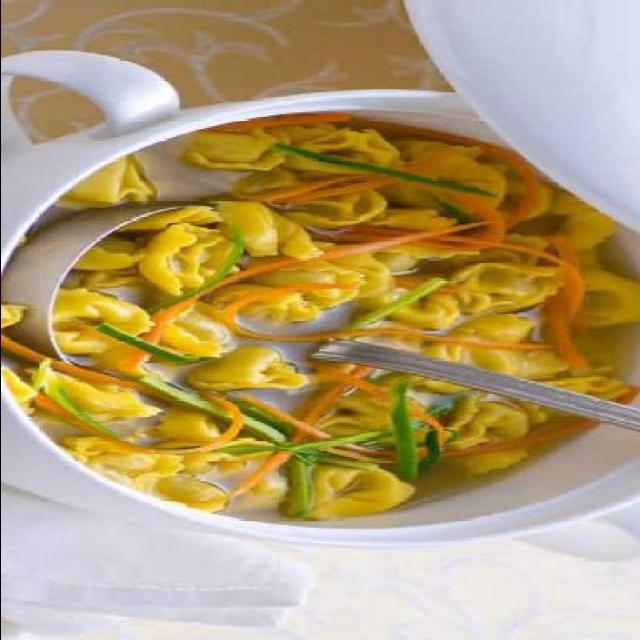Tortellini in broth: (53, 186, 425, 394)
